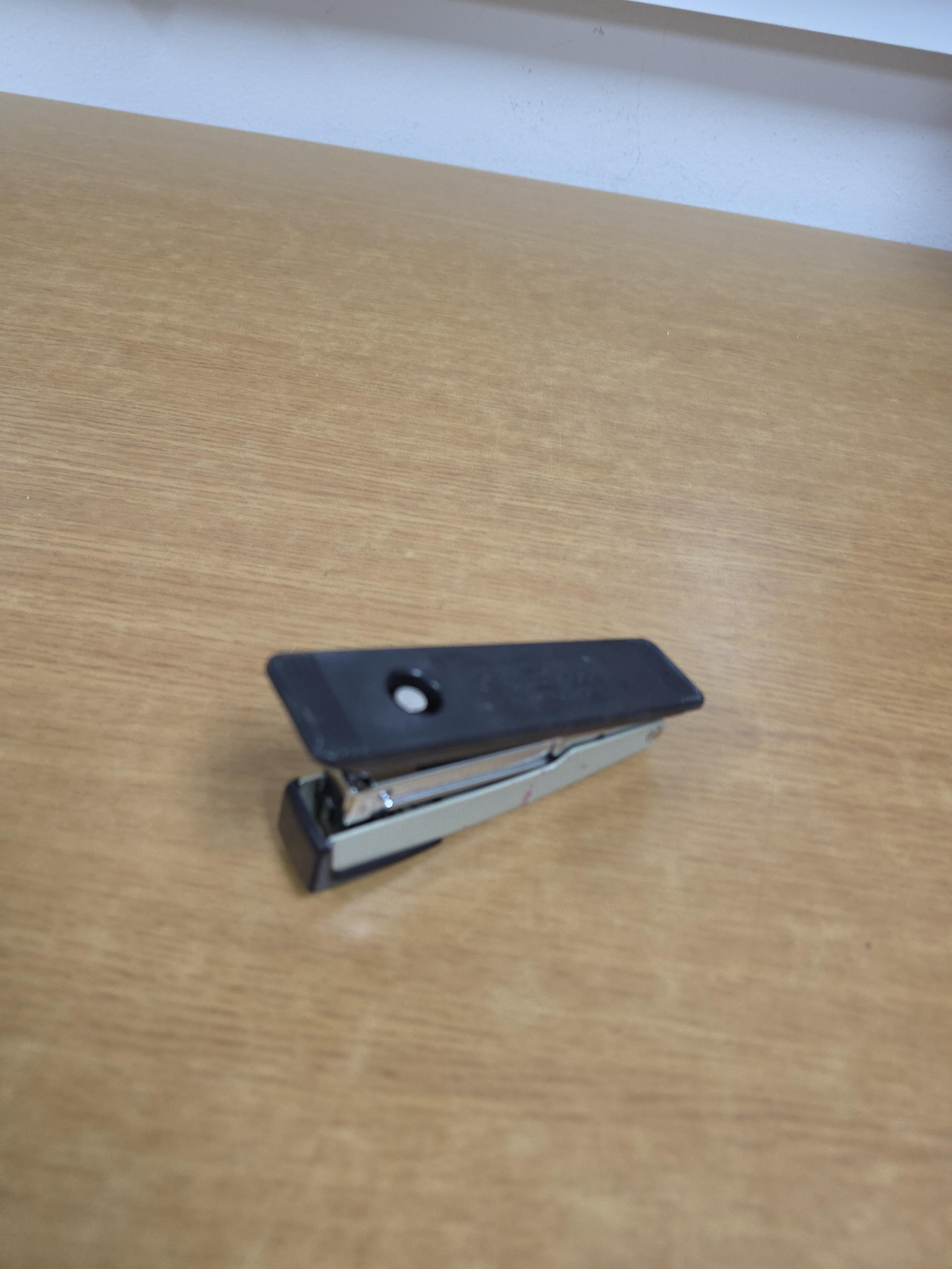stapler: (266, 635, 707, 895)
